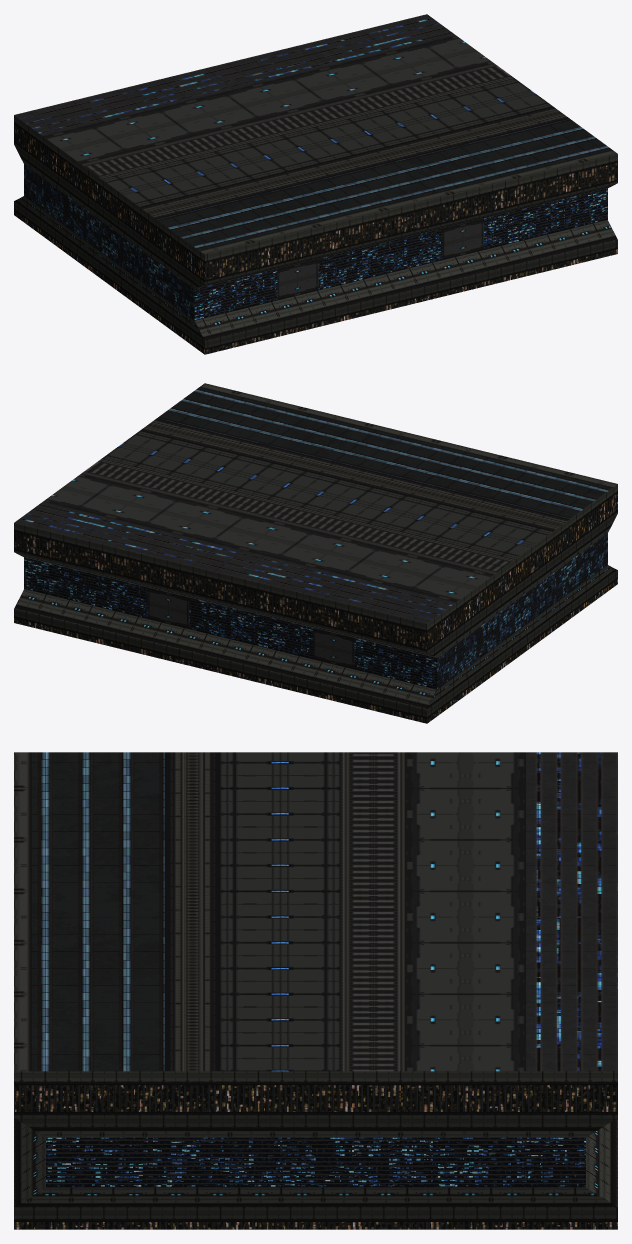
Rendered from Ultra2.fbx.
3 renders of one model, top to bottom at view 1: azimuth 30°, elevation 25°; view 2: azimuth 150°, elevation 25°; view 3: azimuth 270°, elevation 25°, orthographic. The views are drawn at different scales.
Visible parts, largest first — view 1: pPlane17; view 2: pPlane17; view 3: pPlane17.
Part boxes in pixels (bbox=[...]): pPlane17: bbox=[14, 14, 617, 354]; pPlane17: bbox=[14, 383, 617, 723]; pPlane17: bbox=[14, 752, 617, 1229].
Bounding box in the file's own units: 50 × 11.58 × 40.
Materials: 1 (1 with a texture image).
